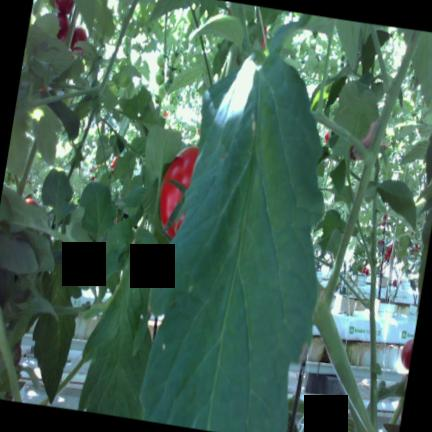6kp_petiole: (312, 226, 353, 364), (350, 372, 377, 432)
MainStem: (314, 281, 375, 432)
tomato: (160, 146, 199, 238), (401, 337, 415, 369), (57, 12, 70, 42), (71, 26, 87, 49), (55, 0, 74, 14), (155, 69, 164, 85), (171, 51, 180, 67), (158, 84, 166, 99), (157, 54, 165, 68), (167, 68, 173, 80), (387, 244, 393, 256), (384, 253, 391, 261), (392, 279, 397, 286), (362, 266, 365, 273), (365, 268, 368, 274)
